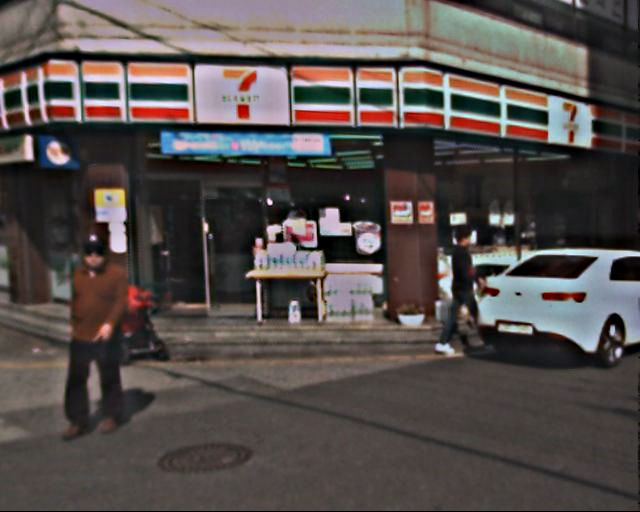person: (50, 229, 160, 435), (439, 220, 503, 353)
